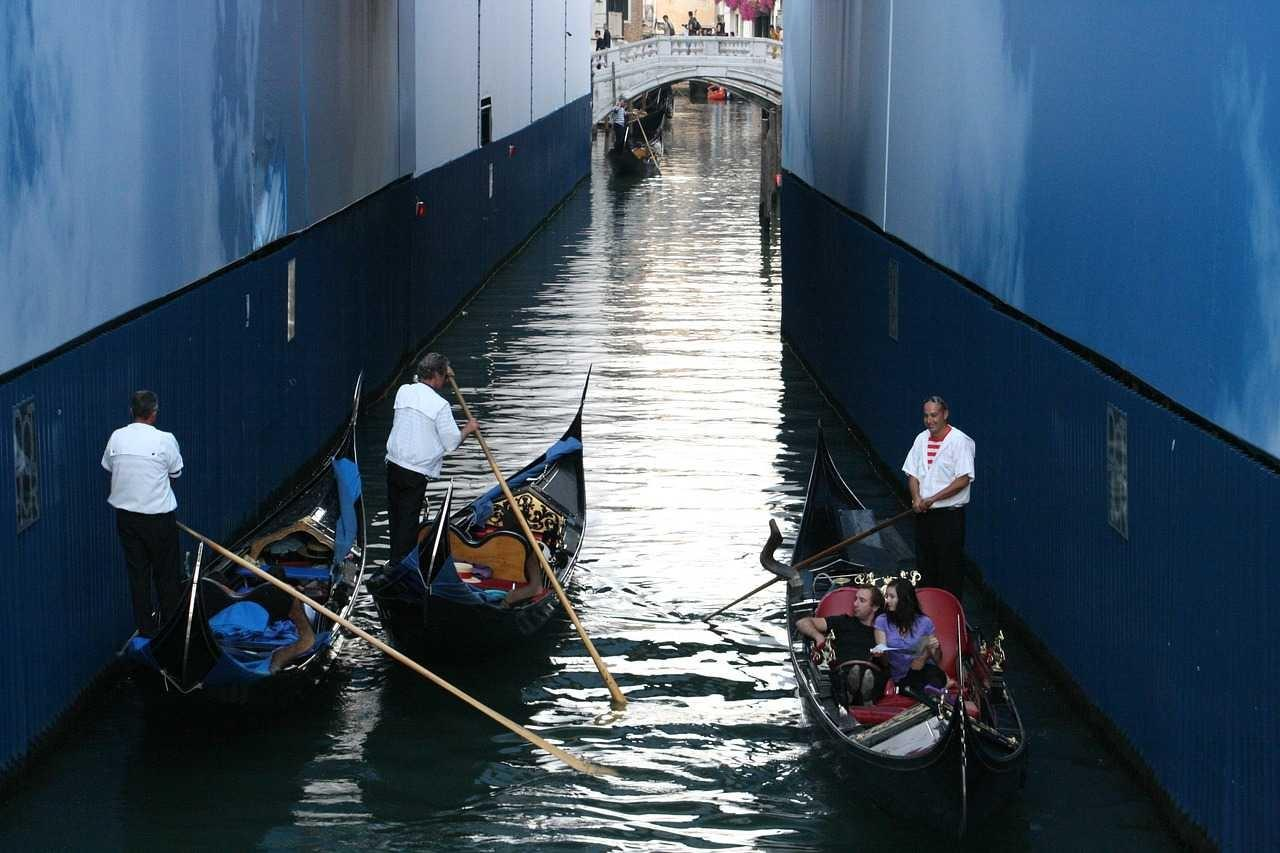kayak: (781, 544, 1030, 840), (368, 362, 592, 651), (124, 459, 367, 711), (386, 358, 499, 581), (603, 107, 664, 181)
